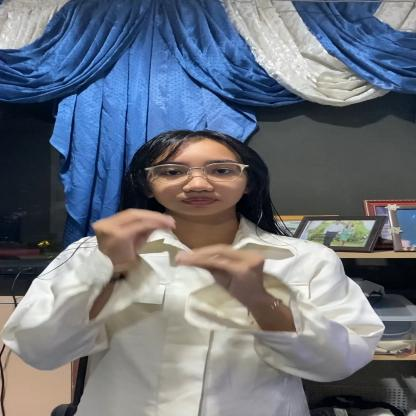Fix: (49, 193, 283, 321)
